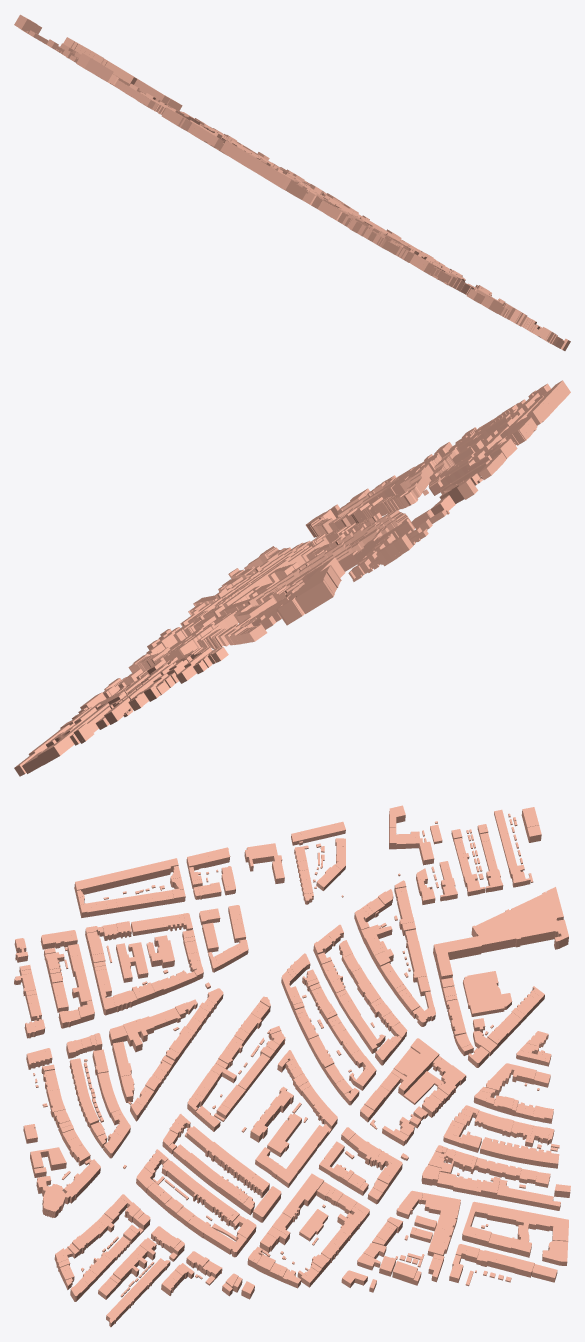
3 views of the same model, one above another, from view 1: azimuth 30°, elevation 25°; view 2: azimuth 150°, elevation 25°; view 3: azimuth 270°, elevation 25° (orthographic). The views are drawn at different scales.
Size of the model in its own units: 552 by 415 by 640.
